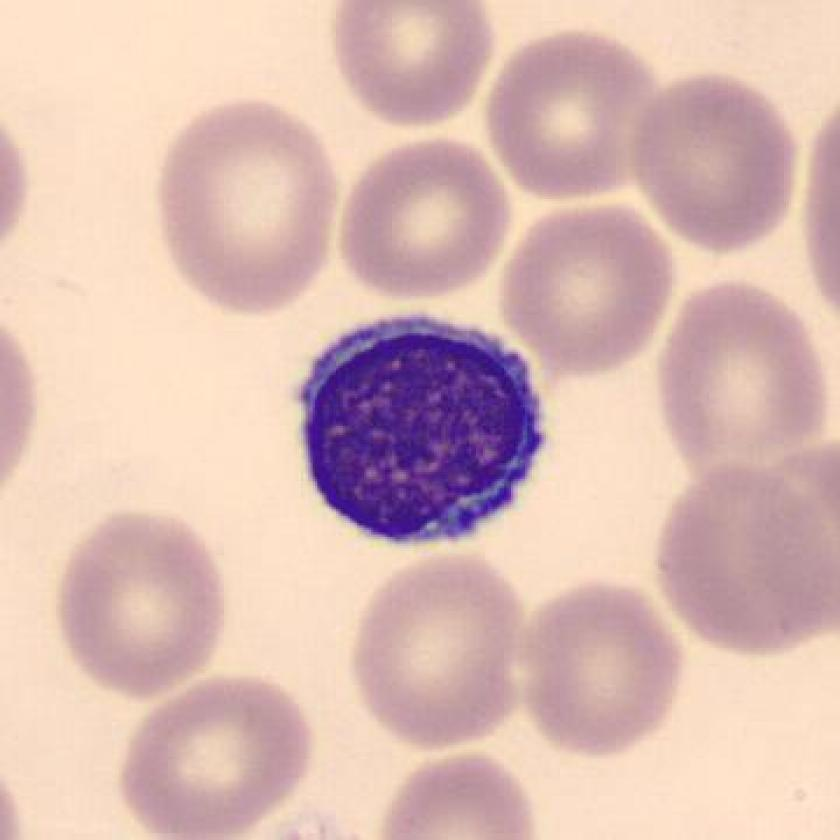lymphocyte: (286, 295, 556, 561)
